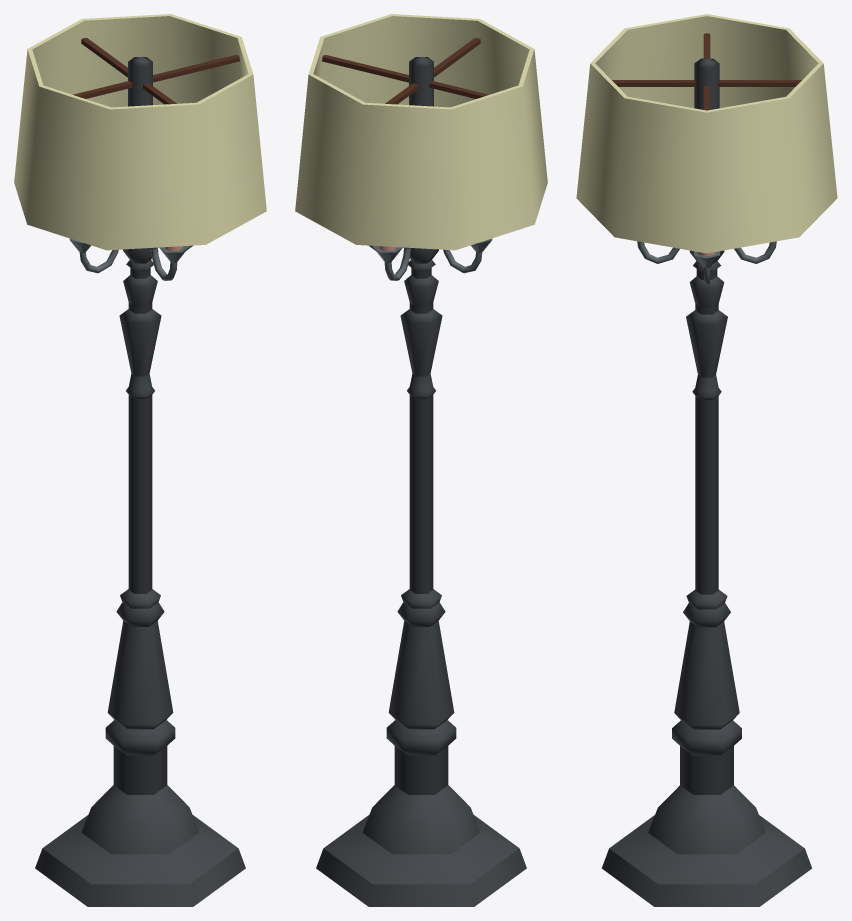
The model's file is SM_GameArea_Light_02.fbx.
3 views of the same model, side by side, from view 1: azimuth 30°, elevation 25°; view 2: azimuth 150°, elevation 25°; view 3: azimuth 270°, elevation 25° (orthographic).
Parts seen in each view (by area): view 1: SM_GameArea_Light_02; view 2: SM_GameArea_Light_02; view 3: SM_GameArea_Light_02.
Part boxes in pixels (box(x1,y1,x2,y2)): SM_GameArea_Light_02: box(14, 14, 266, 906); SM_GameArea_Light_02: box(295, 14, 547, 906); SM_GameArea_Light_02: box(576, 14, 837, 906).
Size of what is drawn, in the model's own units: 160 by 548 by 160.
